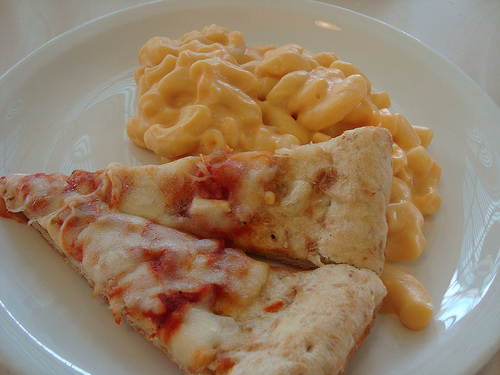macncheese: (133, 21, 439, 332)
